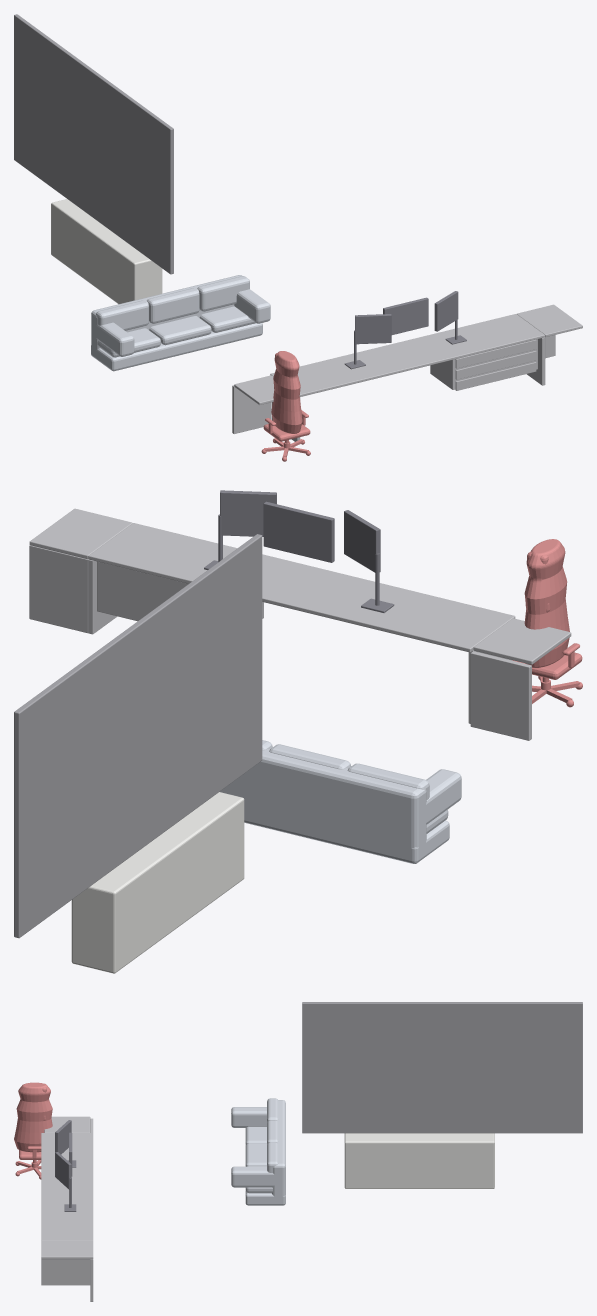
Rendered from agent_scene.glb.
3 renders of one model, top to bottom at view 1: azimuth 30°, elevation 25°; view 2: azimuth 150°, elevation 25°; view 3: azimuth 270°, elevation 25°, orthographic. The views are drawn at different scales.
Visible parts, largest first — view 1: tv, desk_top, cabinet, sofa_base, chair_back, sofa_backc1, desk_retL_panel, desk_retR_top, sofa_backc2, mon_c, sofa_seat1, sofa_backc0 (+12 smaller); view 2: tv, cabinet, desk_top, sofa_back, desk_retL_panel, desk_retR_panel, chair_back, desk_drawers, mon_c, sofa_base, desk_retR_top, desk_retL_top (+7 smaller); view 3: tv, cabinet, desk_top, chair_back, desk_pedR, desk_retR_top, sofa_armR, sofa_back, sofa_armL, desk_retL_top, sofa_seat1, sofa_base (+3 smaller).
Boxes of the visible parts, x1,y1,x2,y2 form: tv: [14, 14, 173, 274]; desk_top: [270, 314, 544, 396]; cabinet: [51, 199, 162, 304]; sofa_base: [91, 323, 262, 371]; chair_back: [271, 351, 302, 433]; sofa_backc1: [147, 288, 199, 323]; desk_retL_panel: [232, 385, 271, 433]; desk_retR_top: [517, 304, 582, 337]; sofa_backc2: [197, 276, 249, 311]; mon_c: [383, 297, 428, 334]; sofa_seat1: [149, 316, 211, 345]; sofa_backc0: [96, 300, 148, 330]; tv: [14, 534, 262, 938]; cabinet: [71, 792, 244, 973]; desk_top: [88, 523, 515, 652]; sofa_back: [223, 748, 426, 858]; desk_retL_panel: [470, 651, 531, 740]; desk_retR_panel: [29, 545, 88, 633]; chair_back: [524, 539, 569, 667]; desk_drawers: [97, 561, 263, 621]; mon_c: [263, 501, 334, 562]; sofa_base: [244, 808, 449, 863]; desk_retR_top: [29, 508, 132, 559]; desk_retL_top: [473, 618, 571, 664]; tv: [302, 1002, 582, 1133]; cabinet: [344, 1133, 494, 1188]; desk_top: [41, 1133, 93, 1240]; chair_back: [14, 1082, 52, 1152]; desk_pedR: [41, 1259, 90, 1285]; desk_retR_top: [41, 1240, 93, 1259]; sofa_armR: [231, 1166, 282, 1187]; sofa_back: [272, 1100, 285, 1201]; sofa_armL: [231, 1107, 266, 1127]; desk_retL_top: [44, 1116, 90, 1132]; sofa_seat1: [245, 1143, 266, 1166]; sofa_base: [245, 1191, 285, 1205].
Bounding box in the file's own units: 5.65 × 3.1 × 8.72.
